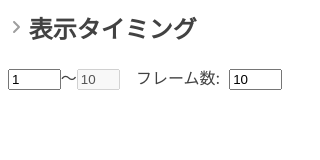
Scenario: Start › link End › set valid value, then calc End value
The image size is (320, 160).
Replace the text in the number field with test id "timing-start" with "5" at (34, 79), box [8,69,61,90]
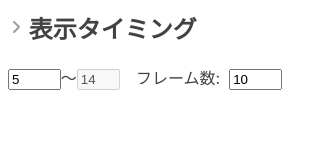
Check: the field with test id "timing-end" holds "14", box [77,69,120,90]
